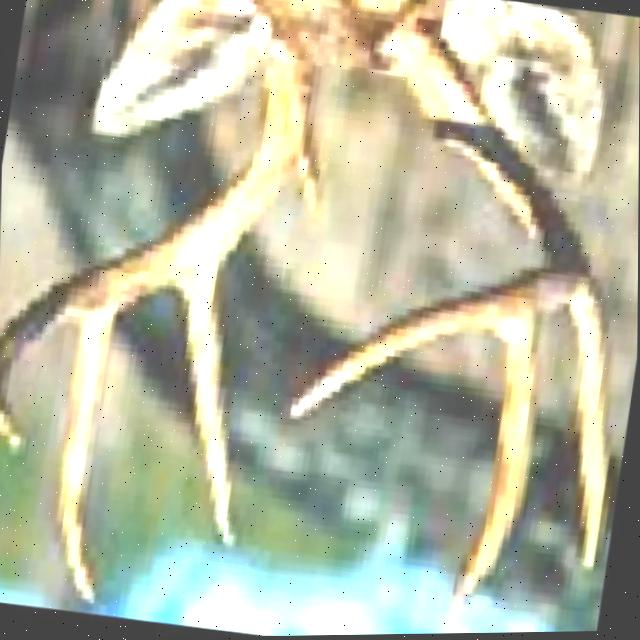L-F: (280, 0, 601, 426)
L-G1: (567, 295, 613, 579)
L-G2: (445, 316, 546, 617)
R-F: (0, 37, 321, 461)
R-G1: (294, 123, 325, 219)
R-G2: (177, 255, 239, 551)
R-G3: (55, 309, 121, 608)
